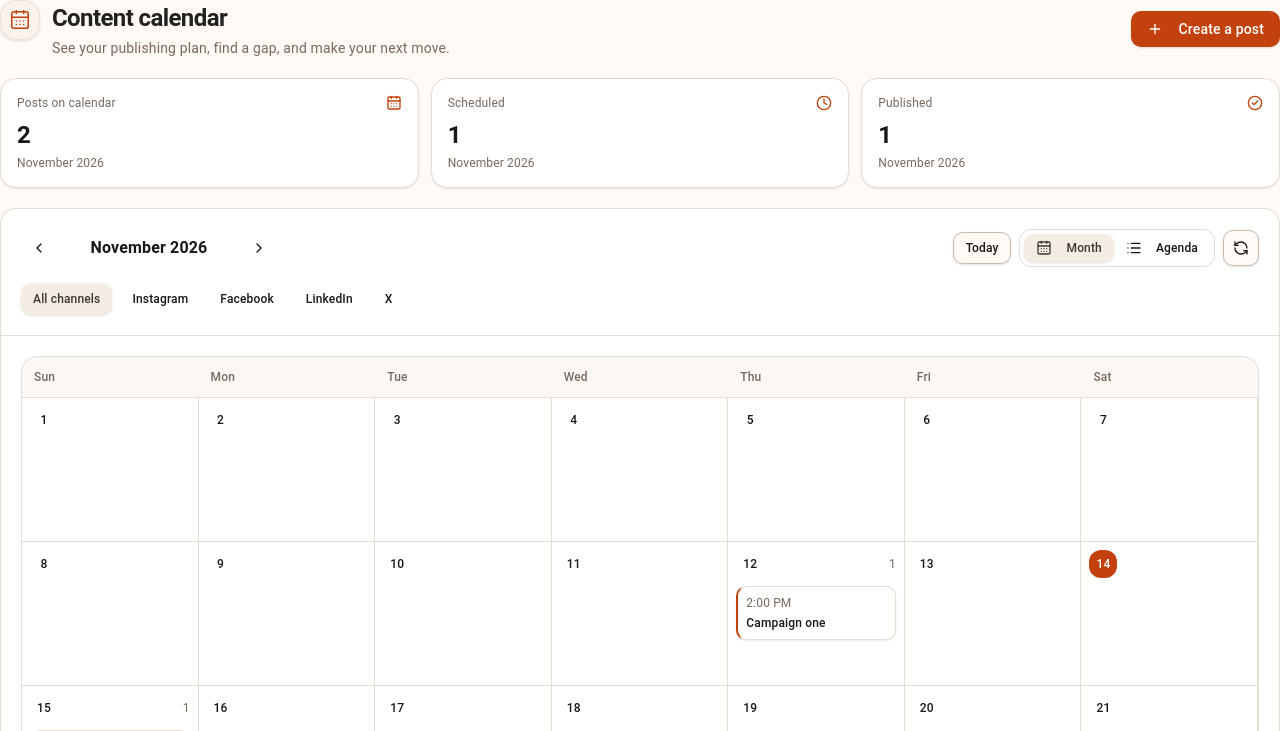
it: CalendarPage › retains the current month during a refresh failure
The width and height of the screenshot is (1280, 731).
Click the button named "Refresh calendar".
click(1241, 248)  # box [1223,230,1259,266]
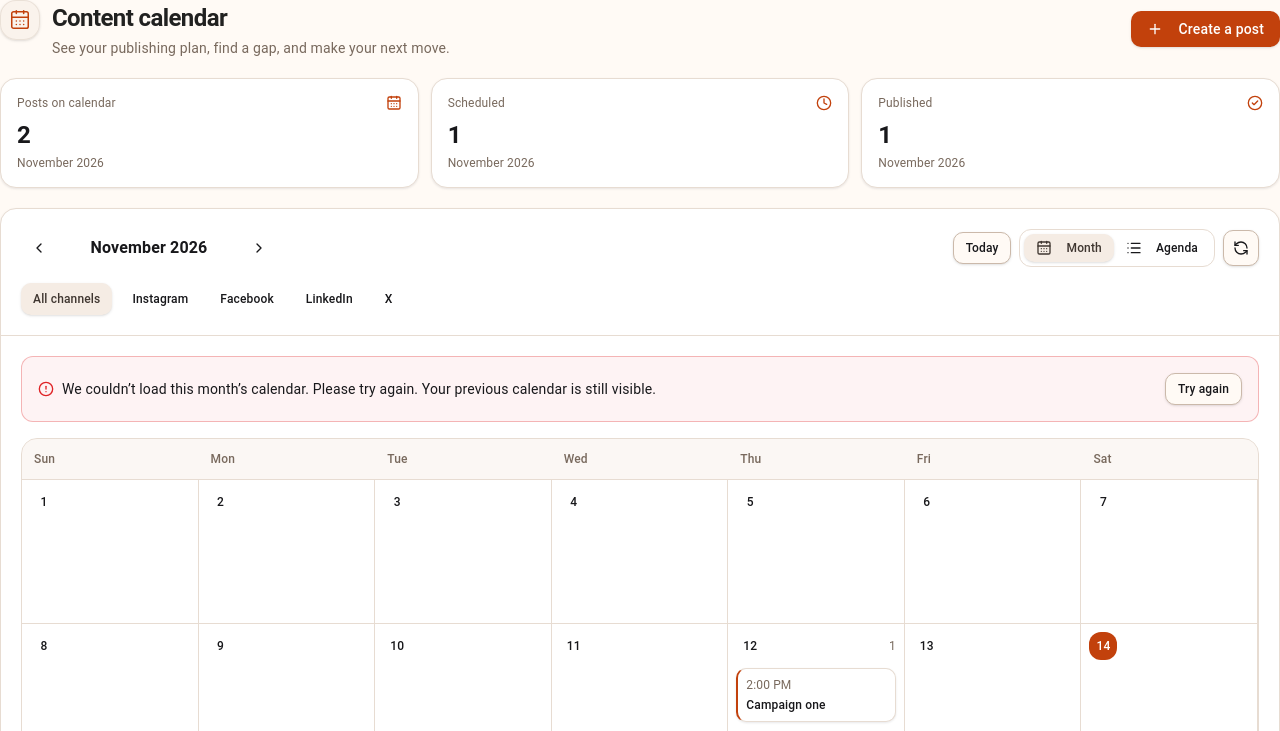
Expected: the button "2:00 PM Campaign one" is shown, [736,668,896,722]
Result: the message is shown at [21,356,1259,422]
